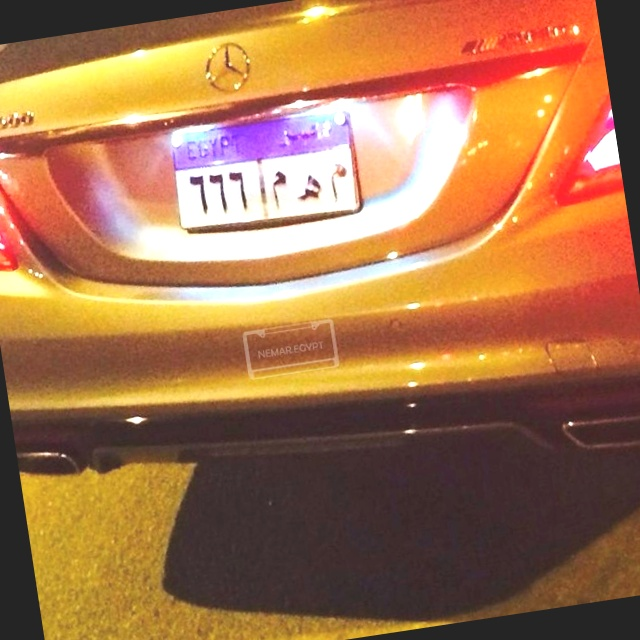License Plate: (162, 100, 370, 242)
